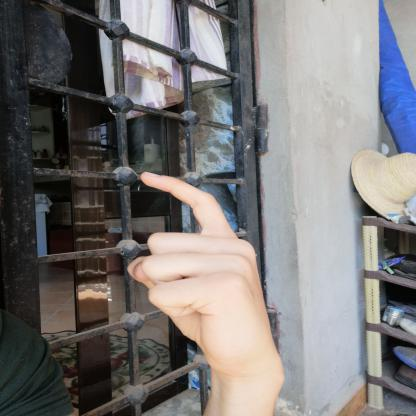RAA: (116, 163, 289, 380)
